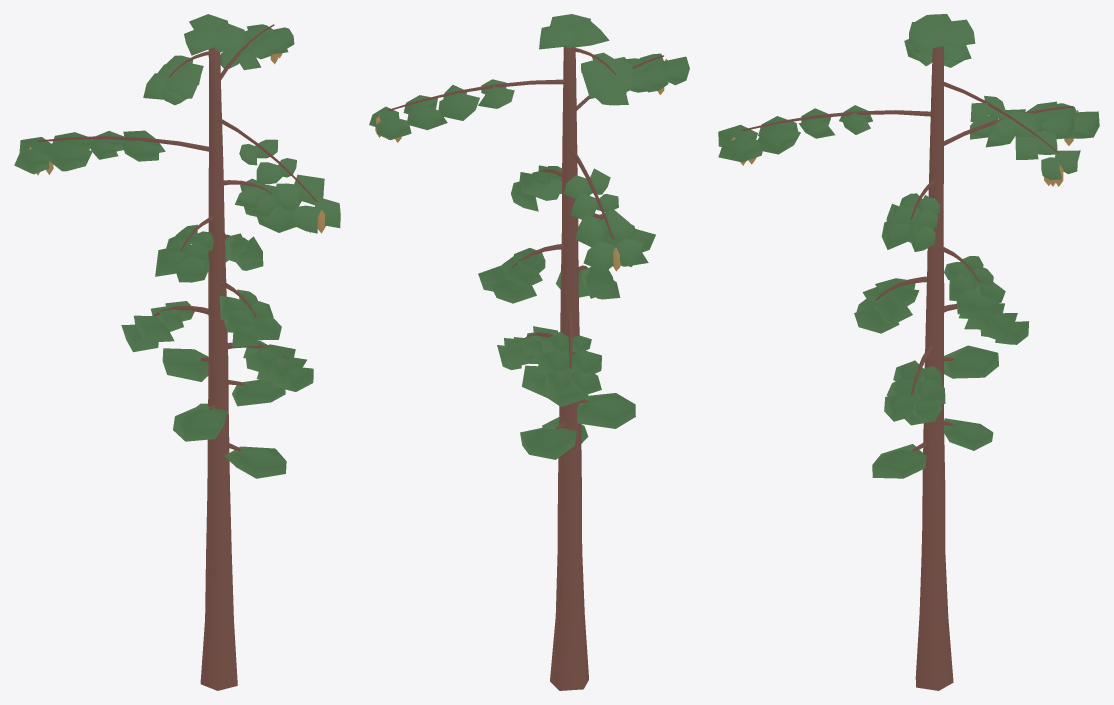
File: Blender_SugarPine_1_Far.glb
The picture shows the model from 3 angles, left to right: view 1: azimuth 30°, elevation 25°; view 2: azimuth 150°, elevation 25°; view 3: azimuth 270°, elevation 25°; orthographic projection.
Parts seen in each view (by area): view 1: Blender_SugarPine_1_Far; view 2: Blender_SugarPine_1_Far; view 3: Blender_SugarPine_1_Far.
Boxes of the visible parts, left/top/right/bottom form: Blender_SugarPine_1_Far: left=14, top=14, right=340, bottom=690; Blender_SugarPine_1_Far: left=369, top=14, right=689, bottom=690; Blender_SugarPine_1_Far: left=718, top=14, right=1099, bottom=690.
Bounding box in the file's own units: 20.93 × 49.03 × 25.66.
